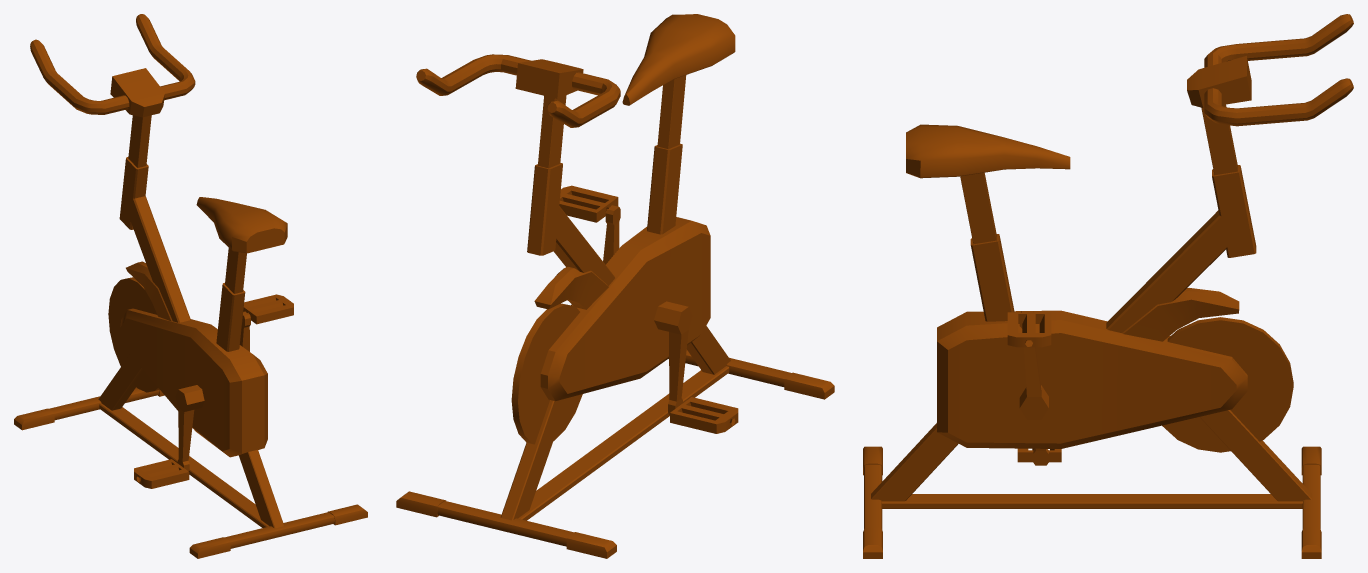
The model's file is velow_LP.FBX.
The picture shows the model from 3 angles, left to right: view 1: azimuth 30°, elevation 25°; view 2: azimuth 150°, elevation 25°; view 3: azimuth 270°, elevation 25°; orthographic projection. The views are drawn at different scales.
Parts seen in each view (by area): view 1: Box003; view 2: Box003; view 3: Box003.
Part boxes in pixels (x1,y1,x2,y2): Box003: (14,14,367,558); Box003: (396,14,834,558); Box003: (863,14,1353,558).
Size of the model in its own units: 67.07 by 139 by 134.
